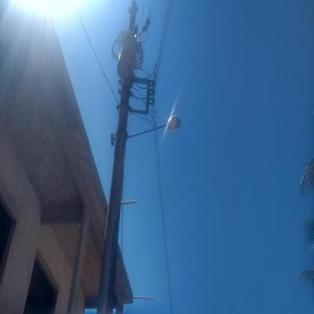Poste: (90, 2, 140, 314)
